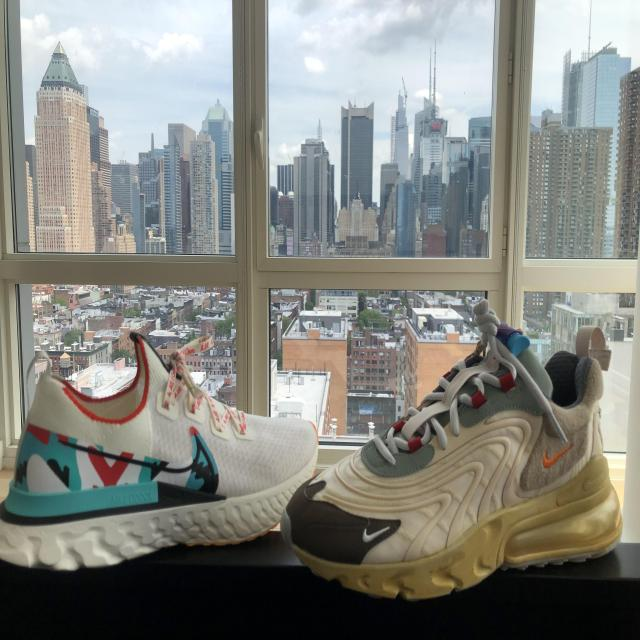shoes: (280, 288, 637, 610), (0, 323, 328, 580)
